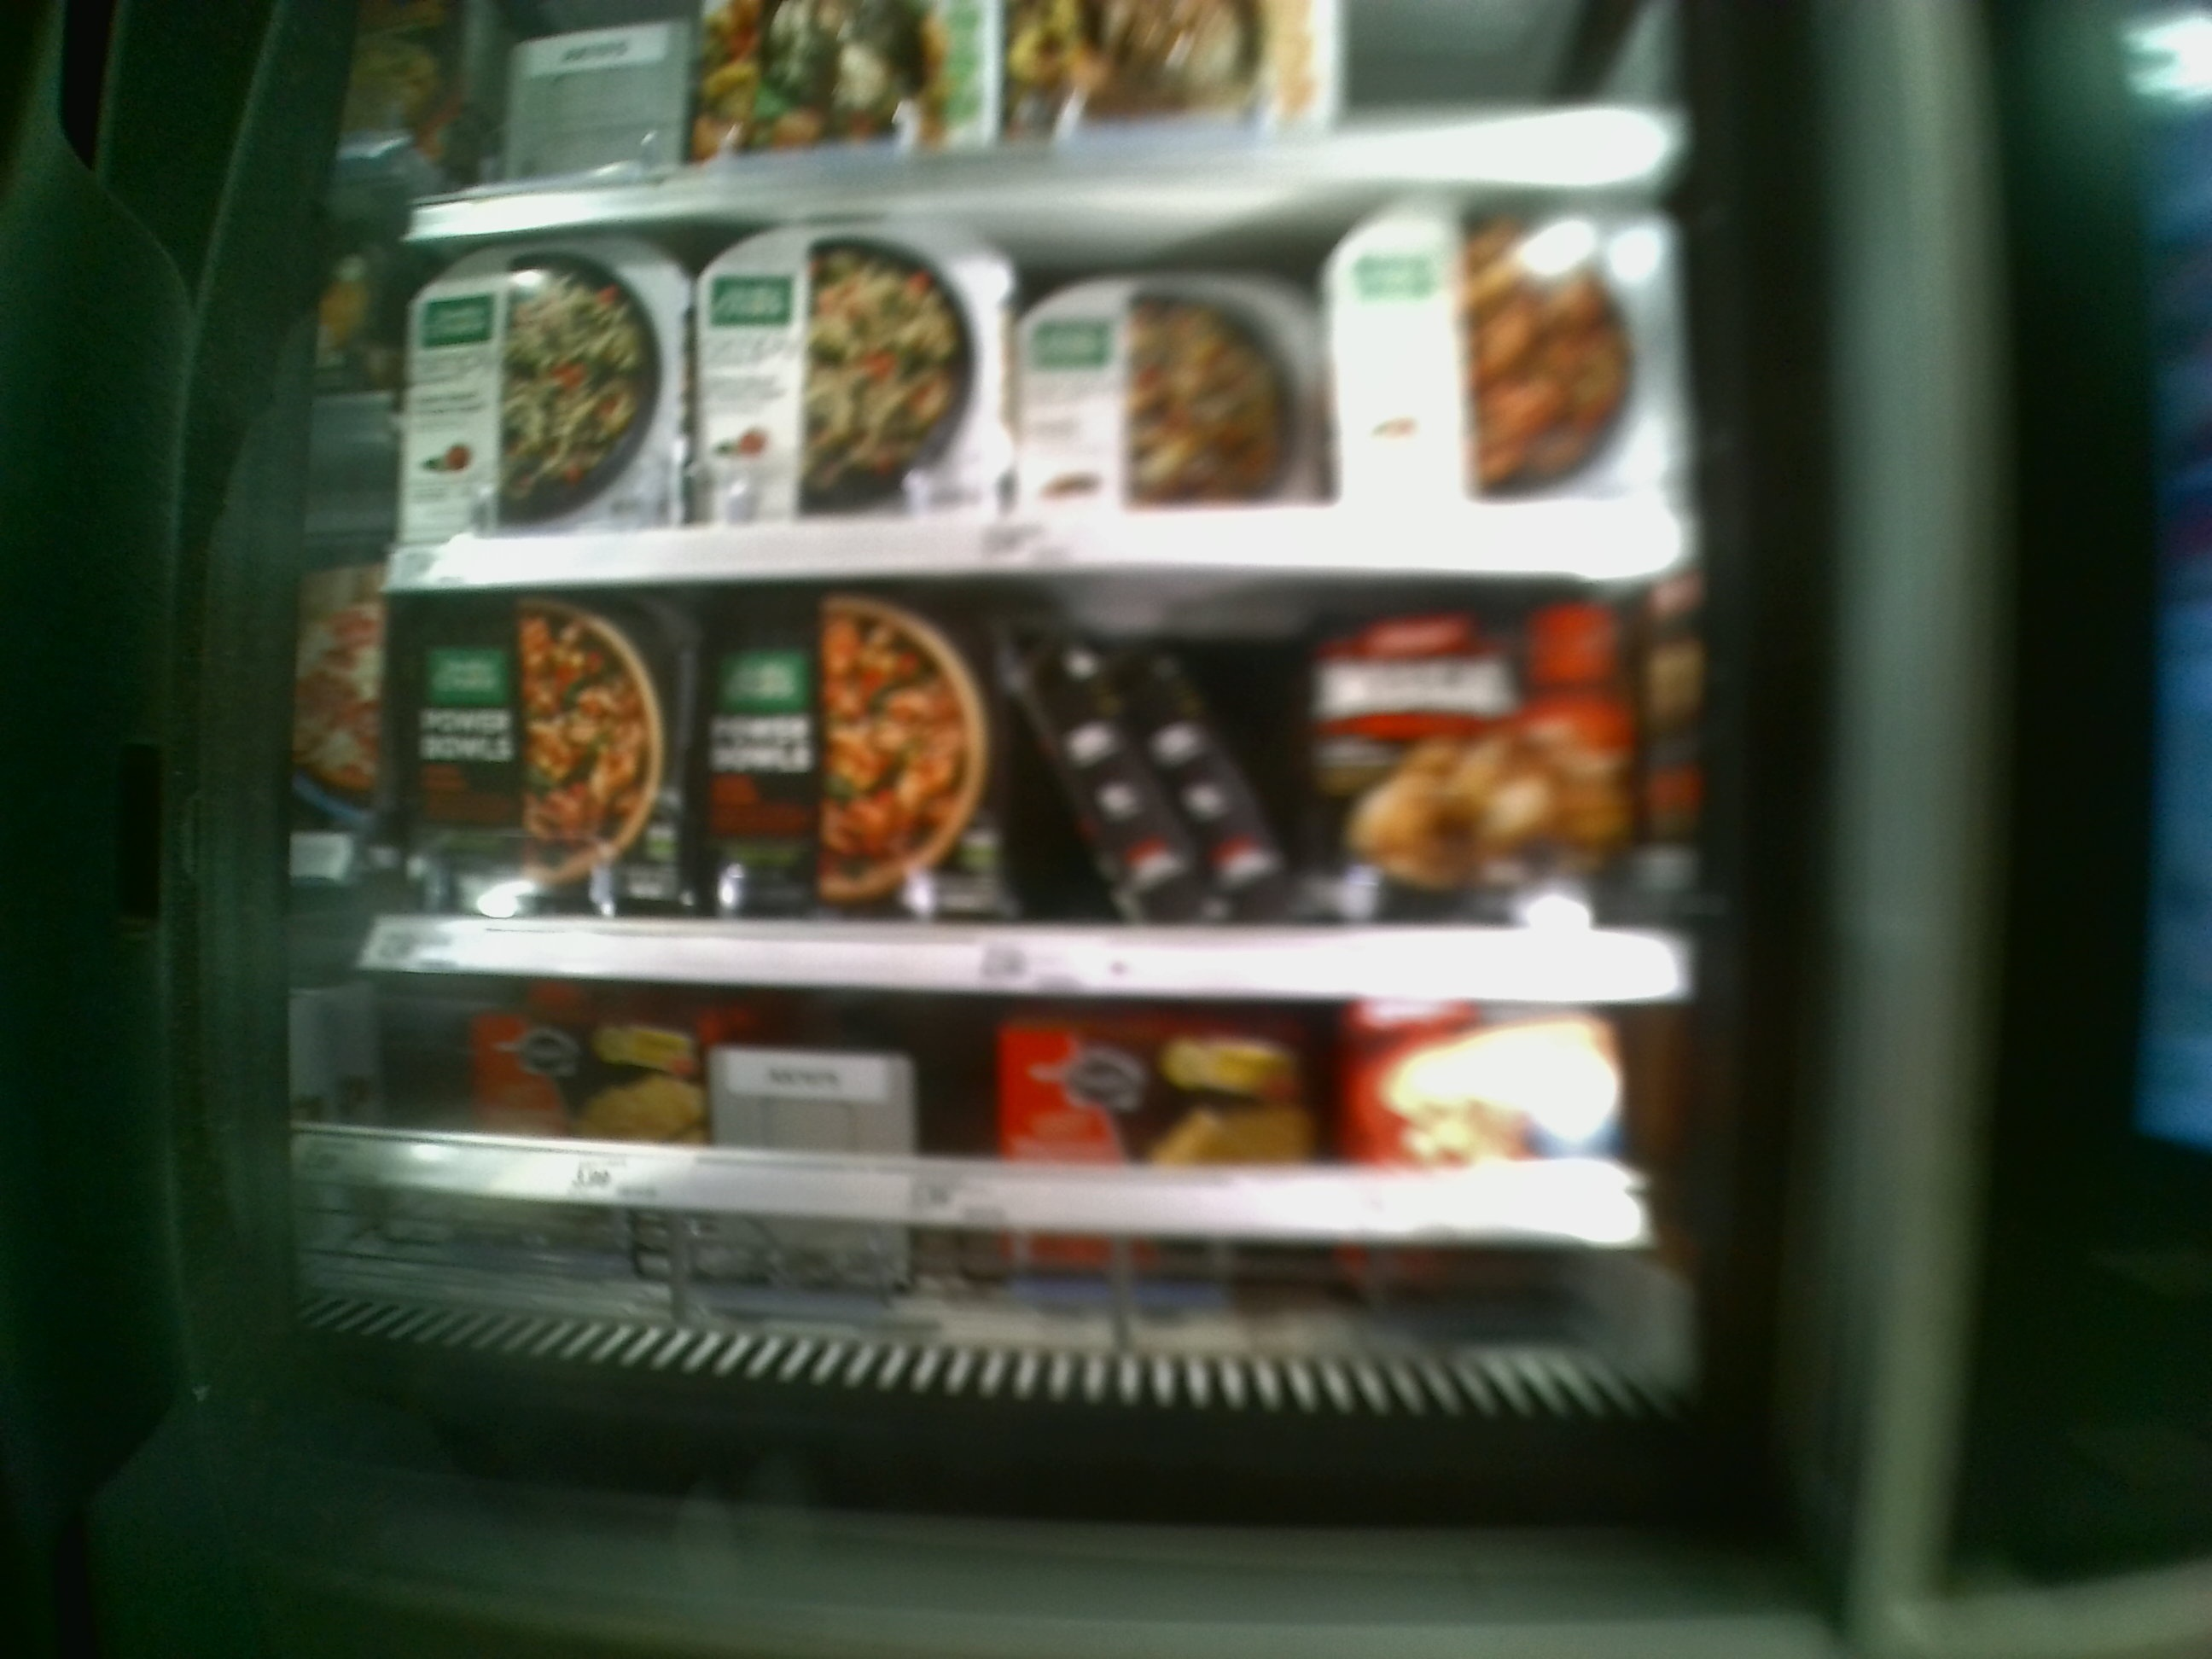shelf: (373, 584, 1695, 1004), (381, 167, 1679, 582)
